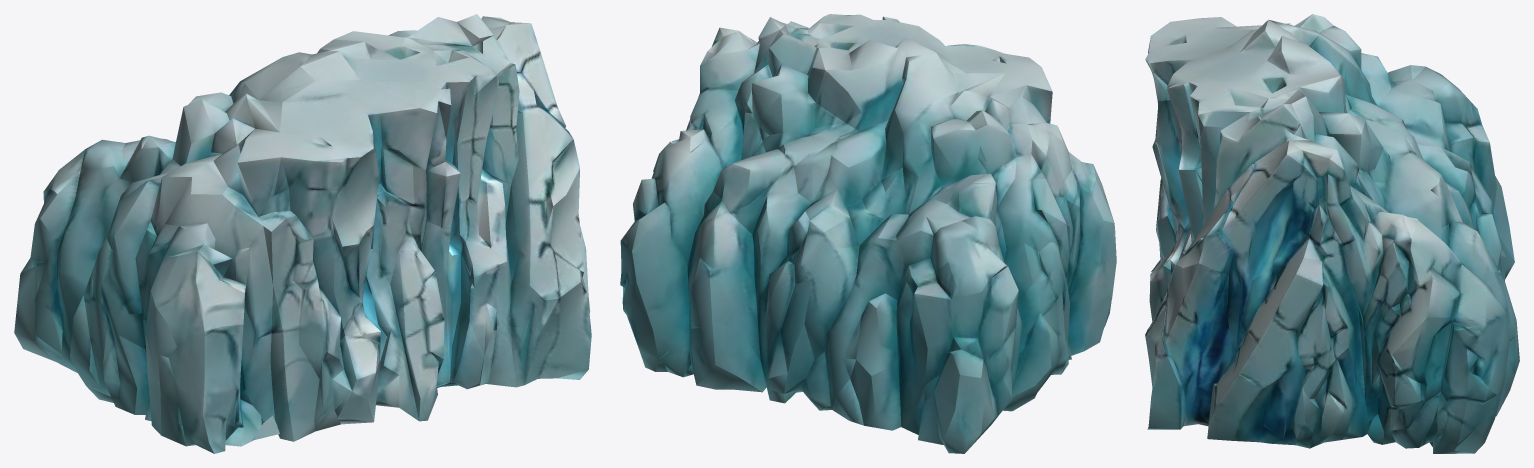
The model's file is glacierChunk.glb.
3 renders of one model, left to right at view 1: azimuth 30°, elevation 25°; view 2: azimuth 150°, elevation 25°; view 3: azimuth 270°, elevation 25°, orthographic. The views are drawn at different scales.
Visible parts, largest first — view 1: model; view 2: model; view 3: model.
Boxes of the visible parts, box(x1,y1,x2,y2) form: model: box(14, 14, 591, 453); model: box(620, 14, 1116, 453); model: box(1145, 14, 1519, 453).
Bounding box in the file's own units: 1.9 × 1.39 × 1.41.
Materials: 1 (1 with a texture image).
